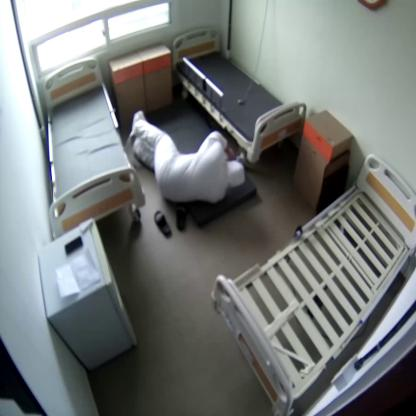Person: (130, 112, 246, 202)
